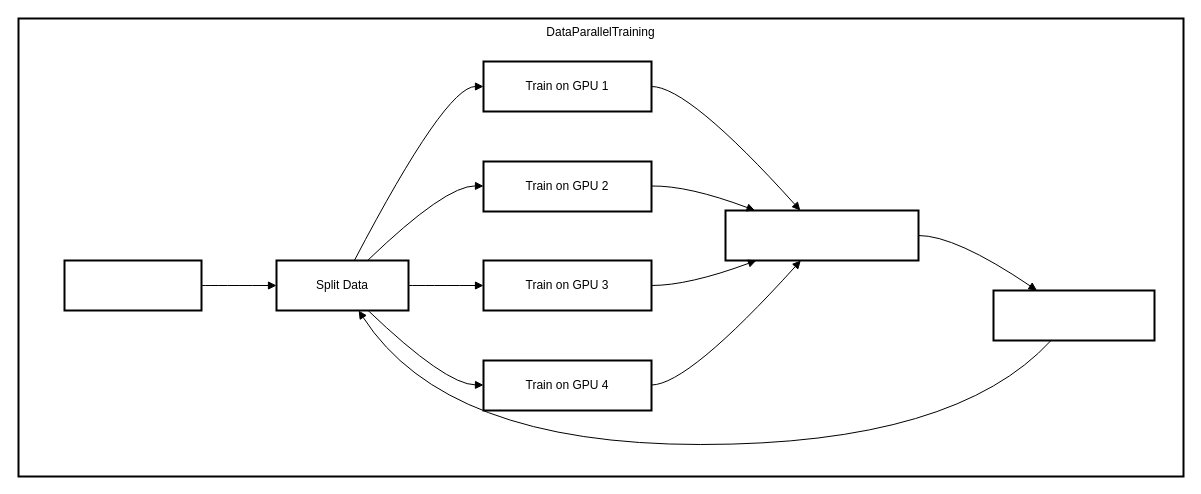
This 1201x494 diagram has some shape labels left out. The shapes that lost their labels are listed below. From the top down, each one's centre as x and y in pixels, then its label:
At (x=821, y=235): "Average Gradients".
At (x=132, y=285): "Input Data".
At (x=1073, y=315): "Update Model".
